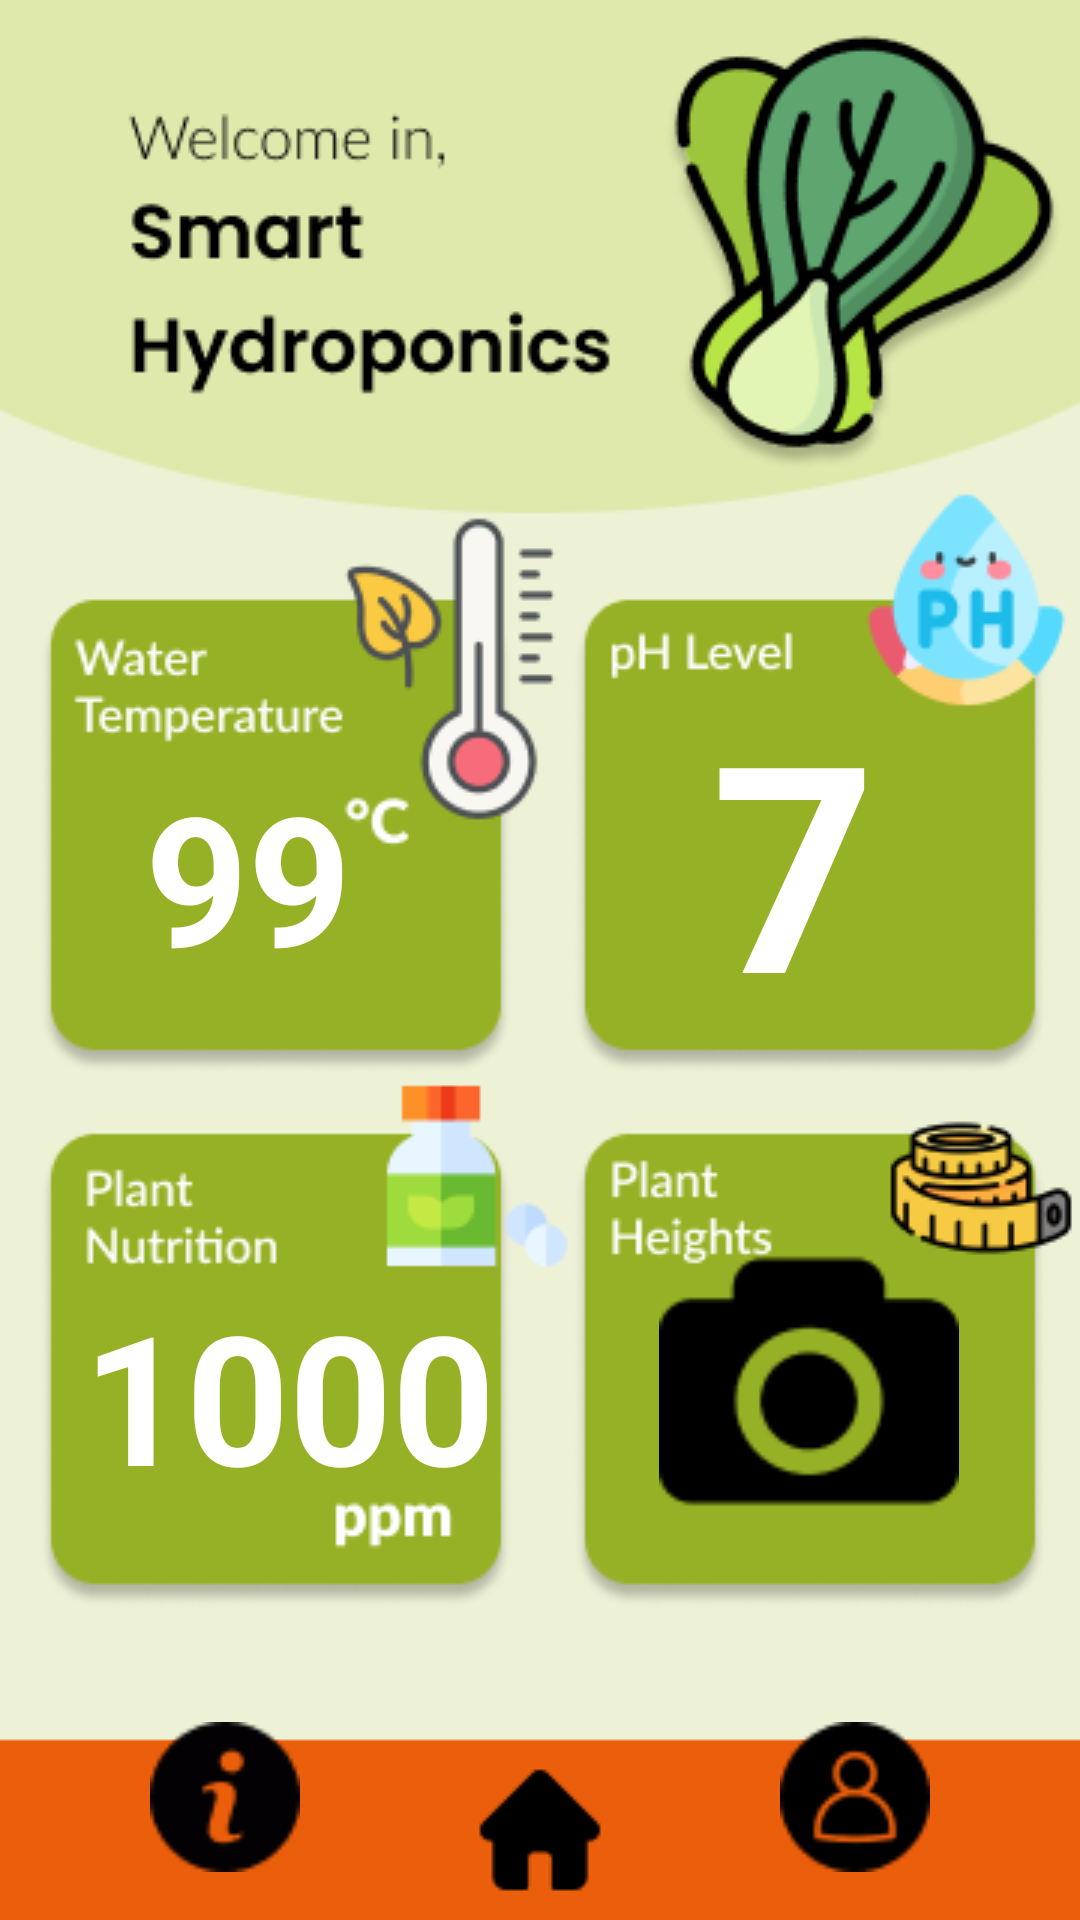

Where to tap for icons on this 1080 x 1920 app screen, as [x,y]:
information: [225,1797]
profile: [855,1797]
